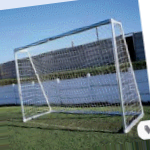goals: (12, 16, 144, 136)
